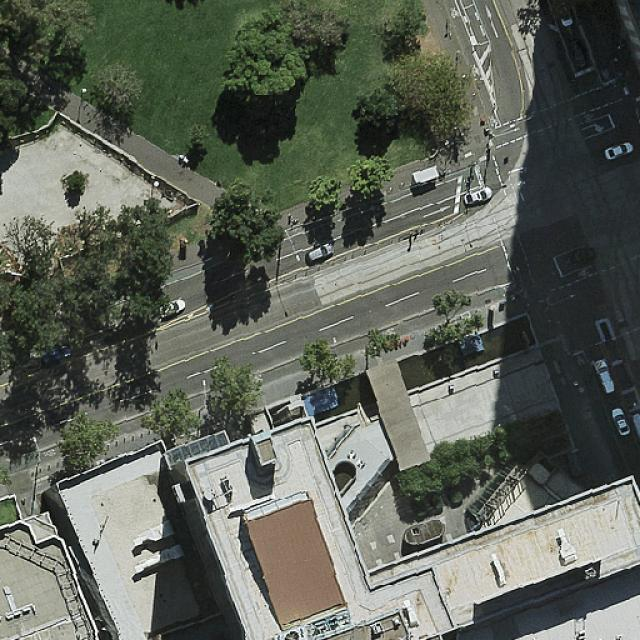Bike-Symbols: (576, 265, 590, 281), (468, 63, 482, 78), (447, 6, 462, 20), (42, 446, 57, 459), (599, 68, 613, 80), (462, 174, 476, 186), (574, 353, 585, 367), (502, 284, 514, 296), (487, 115, 499, 126)
